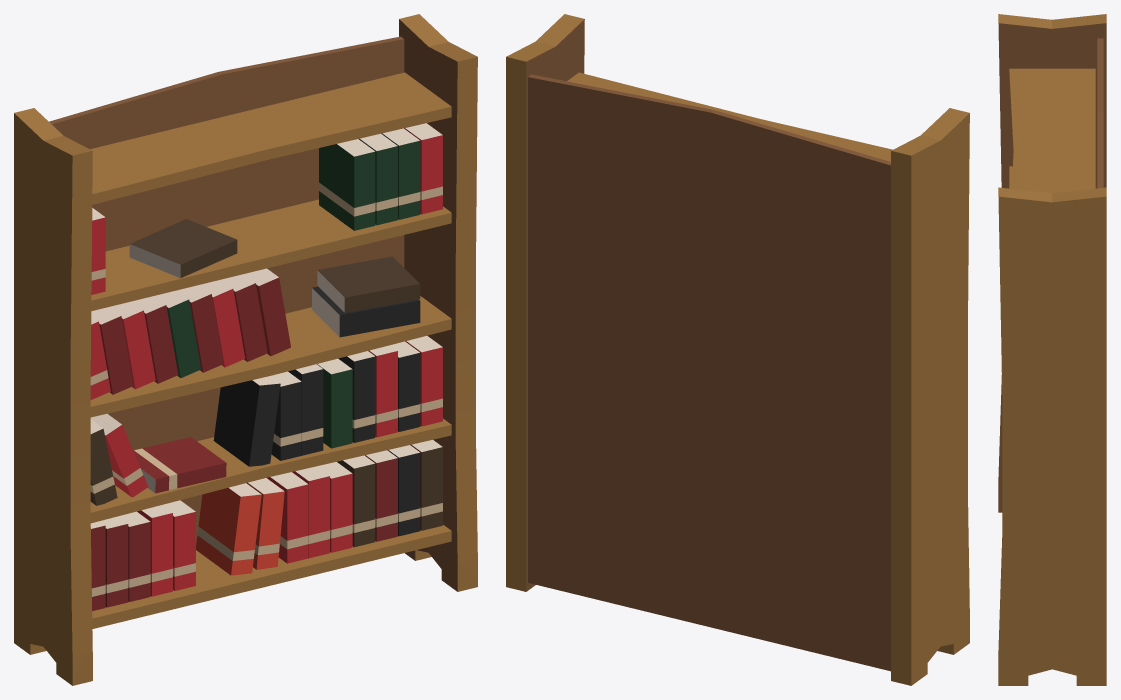
Rendered from fantasy_library-books.fbx.
The picture shows the model from 3 angles, left to right: view 1: azimuth 30°, elevation 25°; view 2: azimuth 150°, elevation 25°; view 3: azimuth 270°, elevation 25°; orthographic projection. The views are drawn at different scales.
Parts seen in each view (by area): view 1: fantasy_library_books; view 2: fantasy_library_books; view 3: fantasy_library_books.
Boxes of the visible parts, <box> form: fantasy_library_books: <box>14,14,477,685</box>; fantasy_library_books: <box>506,14,969,685</box>; fantasy_library_books: <box>998,14,1106,685</box>.
Bounding box in the file's own units: 160 × 200 × 40.
